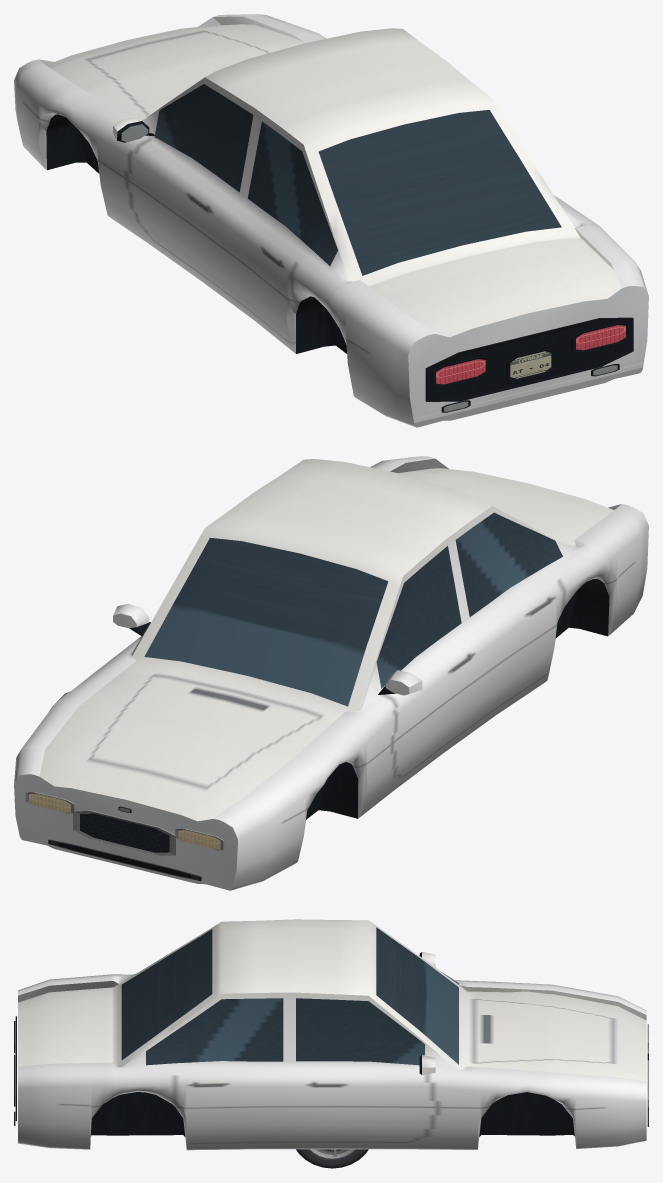
The model's file is monte_gt.glb.
The picture shows the model from 3 angles, top to bottom: view 1: azimuth 30°, elevation 25°; view 2: azimuth 150°, elevation 25°; view 3: azimuth 270°, elevation 25°; orthographic projection. The views are drawn at different scales.
Parts seen in each view (by area): view 1: Carroceria_monte_gt; view 2: Carroceria_monte_gt; view 3: Carroceria_monte_gt, Roda_monte_gt.
Part boxes in pixels (<box>): Carroceria_monte_gt: <box>14,14,648,427</box>; Carroceria_monte_gt: <box>14,456,648,890</box>; Carroceria_monte_gt: <box>14,919,648,1150</box>; Roda_monte_gt: <box>296,1149,368,1168</box>.
Bounding box in the file's own units: 2 × 1.73 × 4.61.
Materials: 6 (6 with a texture image).
